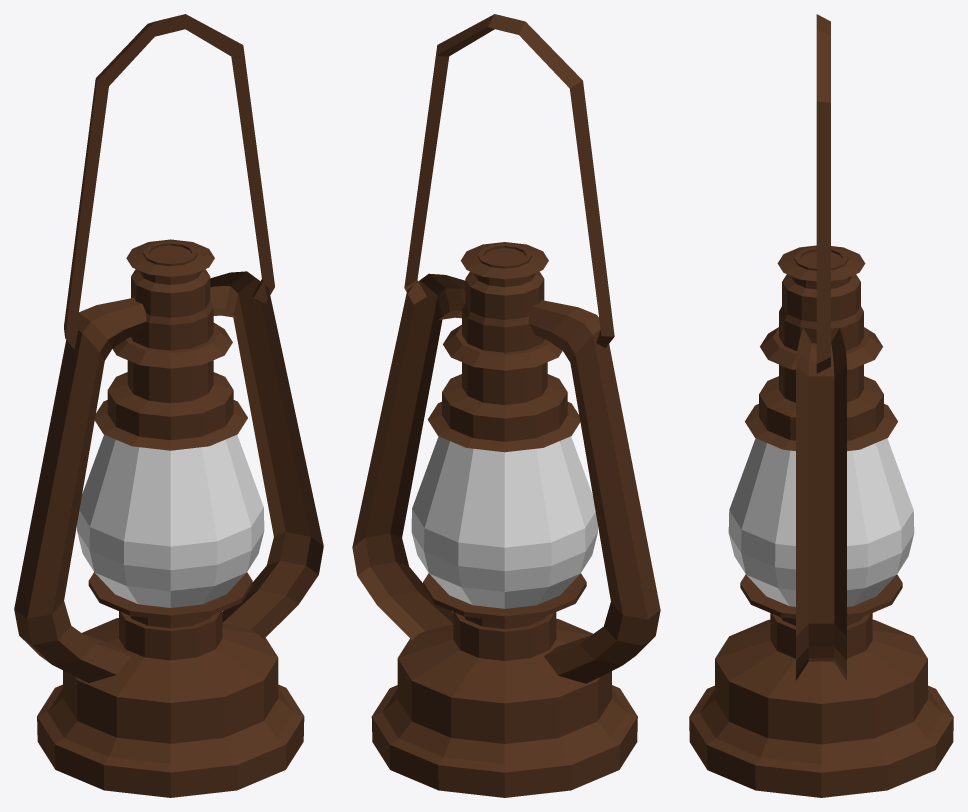
File: Oil Lamp.fbx
The picture shows the model from 3 angles, left to right: view 1: azimuth 30°, elevation 25°; view 2: azimuth 150°, elevation 25°; view 3: azimuth 270°, elevation 25°; orthographic projection.
Visible parts, largest first — view 1: Oil Lantern; view 2: Oil Lantern; view 3: Oil Lantern.
Part boxes in pixels (x1,y1,x2,y2): Oil Lantern: (14,14,323,797); Oil Lantern: (352,14,660,797); Oil Lantern: (689,14,953,797).
Size of the model in its own units: 39.76 by 93 by 31.01.
